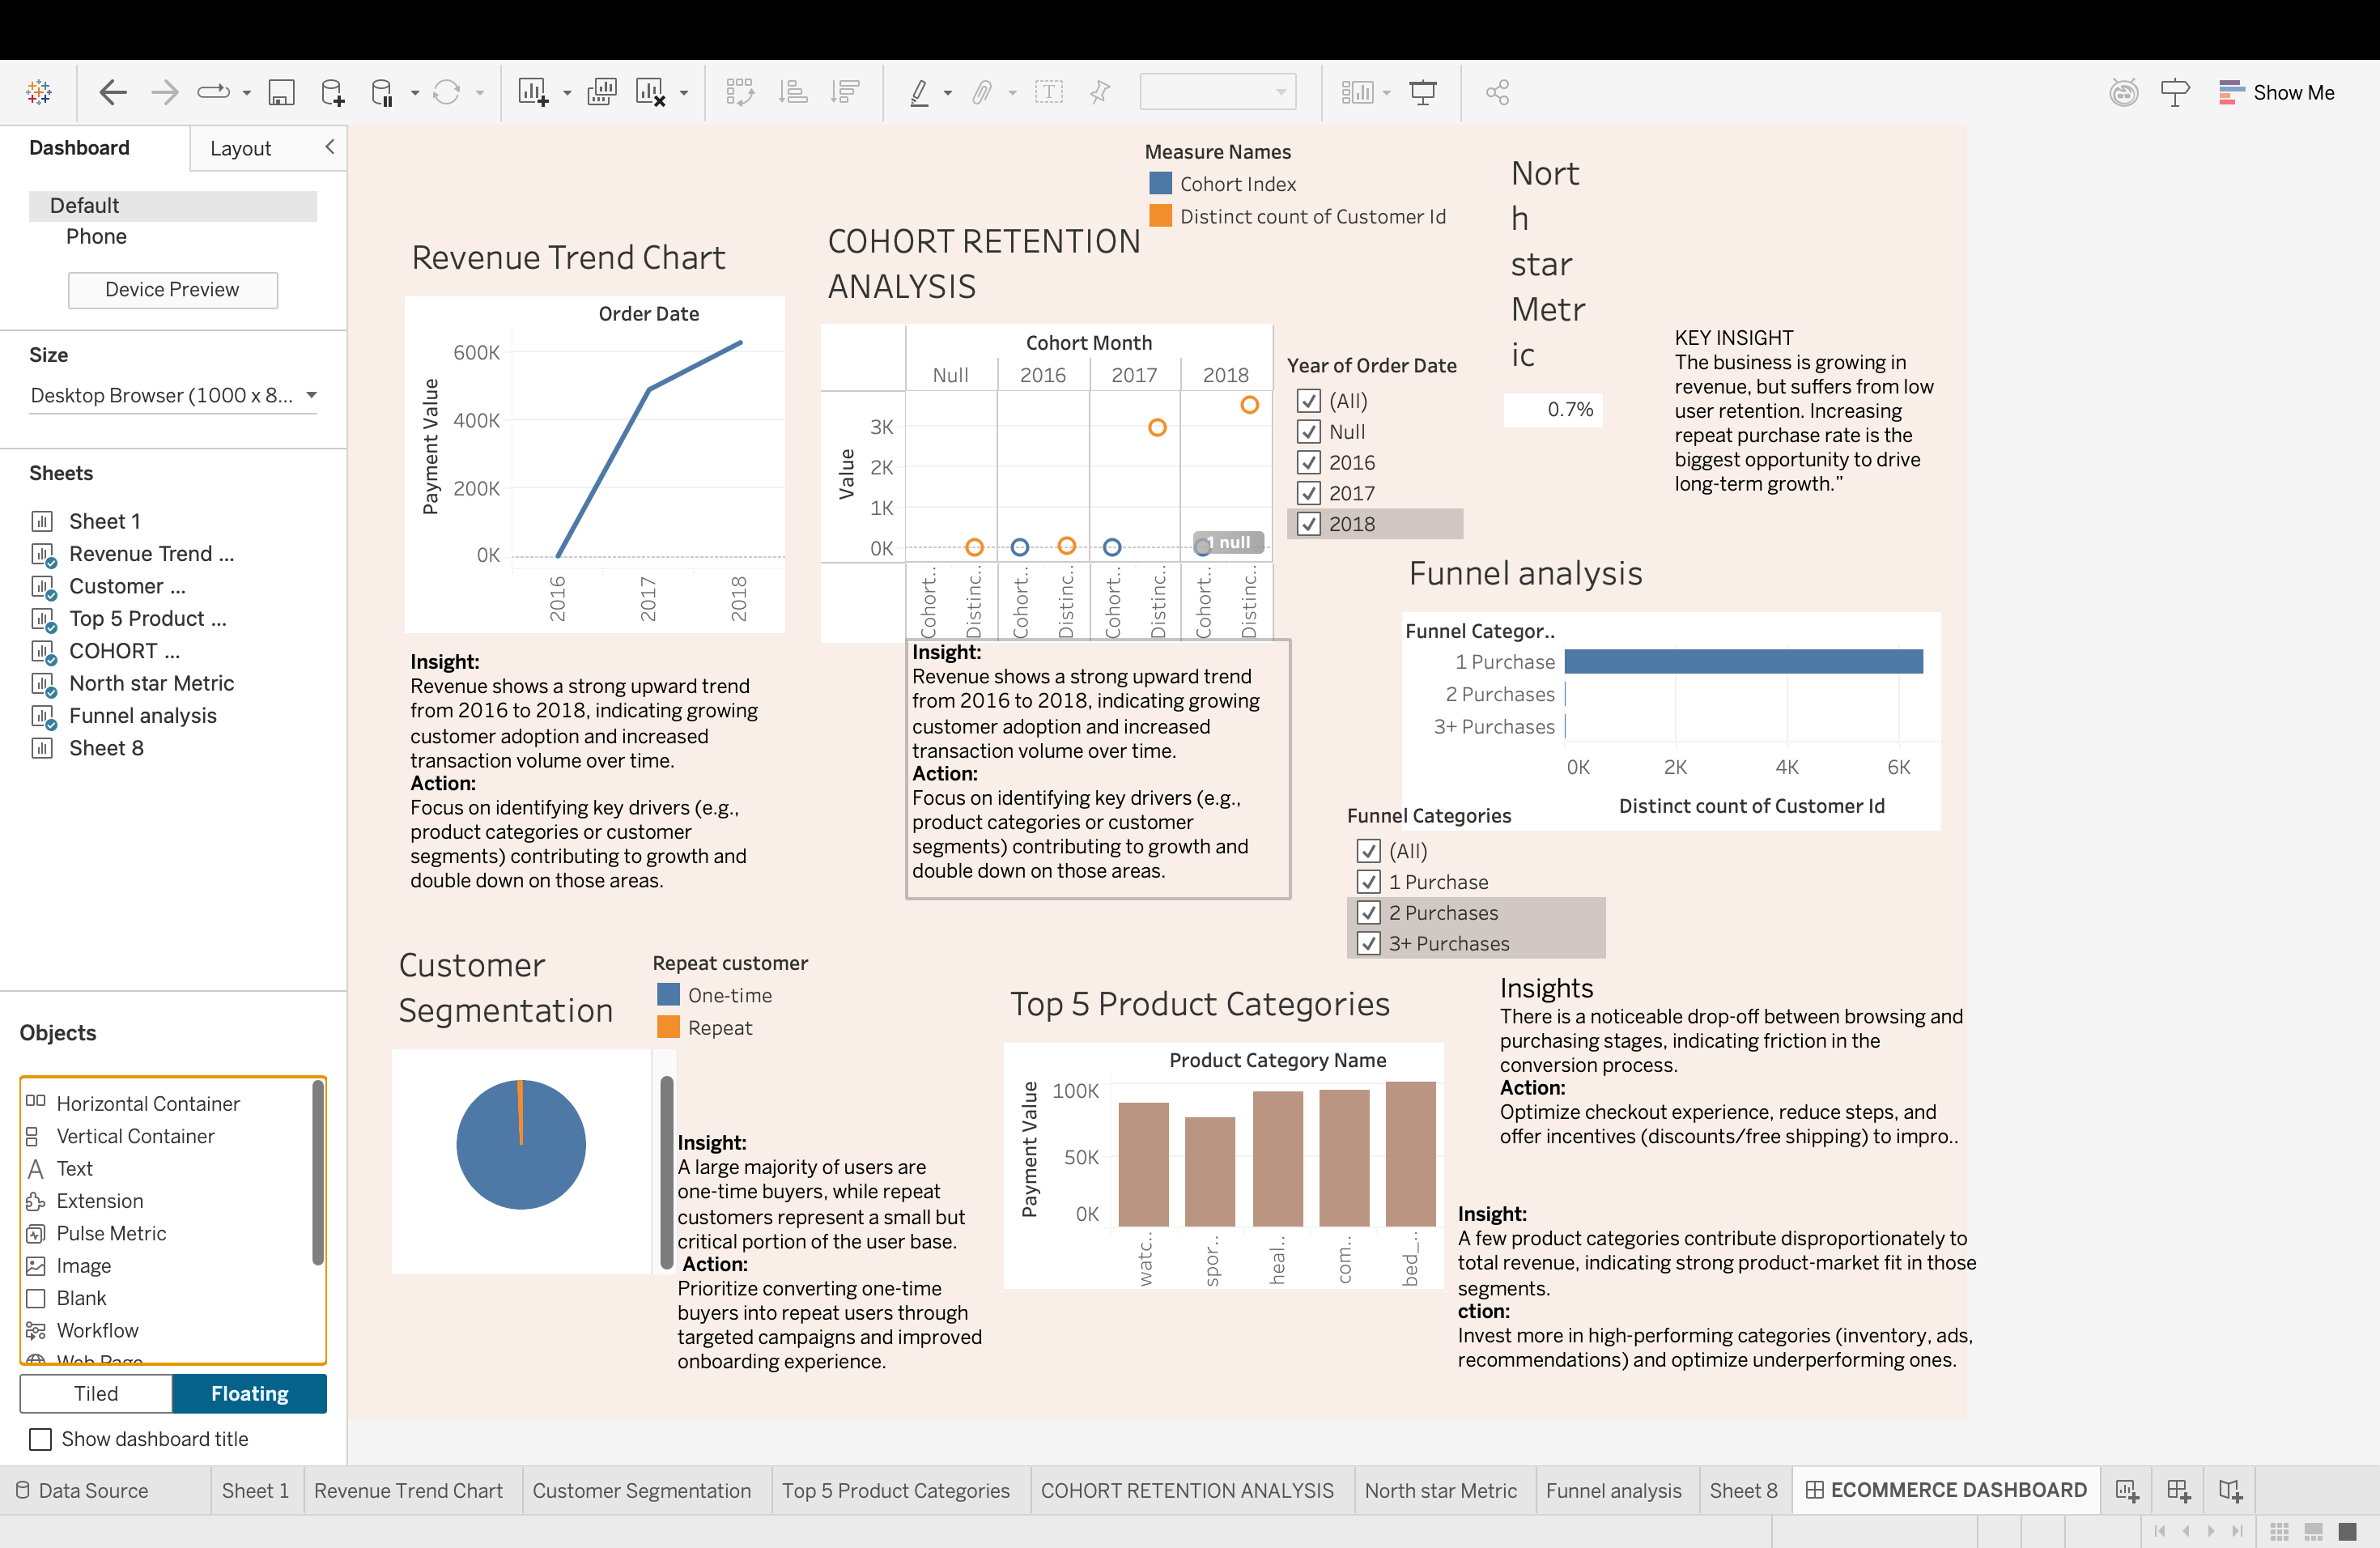

Layout of this report page (visuals, bound fields, positions):
{"tool":"tableau","page":{"name":"ECOMMERCE DASHBOARD","canvas":[1000,800],"ordinal":0},"visuals":[{"type":"legend","title":"COHORT RETENTION ANALYSIS","param":"[federated.0yhvhsq0zbcip315j3wke0ygauby].[:Measure Names]","box":[492,8,191,58]},{"type":"worksheet","title":"North star Metric","mark":"Automatic","box":[714,11,106,200]},{"type":"worksheet","title":"COHORT RETENTION ANALYSIS","mark":"Shape","cols":["Calculation_1696532495409154"],"box":[292,53,280,267]},{"type":"worksheet","title":"Revenue Trend Chart","mark":"Automatic","rows":["payment_value"],"cols":["order_date"],"box":[35,63,235,251]},{"type":"text","box":[817,123,182,114]},{"type":"filter","title":"COHORT RETENTION ANALYSIS","param":"[federated.0yhvhsq0zbcip315j3wke0ygauby].[yr:order_date:ok]","box":[580,140,109,118]},{"type":"worksheet","title":"Funnel analysis","mark":"Automatic","rows":["Calculation_1696532496482311"],"cols":["customer_id"],"box":[651,258,333,266]},{"type":"text","box":[346,319,235,158]},{"type":"text","box":[36,325,235,158]},{"type":"filter","title":"Funnel analysis","param":"[federated.0yhvhsq0zbcip315j3wke0ygauby].[none:Calculation_1696532496482311:nk]","box":[617,418,160,100]},{"type":"worksheet","title":"Customer Segmentation","mark":"Pie","box":[27,500,286,210]},{"type":"legend","title":"Customer Segmentation","param":"[federated.0yhvhsq0zbcip315j3wke0ygauby].[none:Calculation_1696532492816384:nk]","box":[188,509,140,58]},{"type":"text","box":[709,523,294,115]},{"type":"worksheet","title":"Top 5 Product Categories","mark":"Automatic","rows":["payment_value"],"cols":["product_category_name"],"box":[405,524,272,196]},{"type":"text","box":[201,610,204,182]}]}

Visuals, with their boxes on the page's 1000x800 design canvas (x1, y1, x2, y2). These are canvas units, not pixel positions in the 2380x1548 screenshot, which may show the page scaled, cropped or inside an application window:
"COHORT RETENTION ANALYSIS" legend: [left=492, top=8, right=683, bottom=66]
"North star Metric" worksheet: [left=714, top=11, right=820, bottom=211]
"COHORT RETENTION ANALYSIS" worksheet (Shape marks): [left=292, top=53, right=572, bottom=320]
"Revenue Trend Chart" worksheet: [left=35, top=63, right=270, bottom=314]
text: [left=817, top=123, right=999, bottom=237]
"COHORT RETENTION ANALYSIS" filter: [left=580, top=140, right=689, bottom=258]
"Funnel analysis" worksheet: [left=651, top=258, right=984, bottom=524]
text: [left=346, top=319, right=581, bottom=477]
text: [left=36, top=325, right=271, bottom=483]
"Funnel analysis" filter: [left=617, top=418, right=777, bottom=518]
"Customer Segmentation" worksheet (Pie marks): [left=27, top=500, right=313, bottom=710]
"Customer Segmentation" legend: [left=188, top=509, right=328, bottom=567]
text: [left=709, top=523, right=1003, bottom=638]
"Top 5 Product Categories" worksheet: [left=405, top=524, right=677, bottom=720]
text: [left=201, top=610, right=405, bottom=792]
